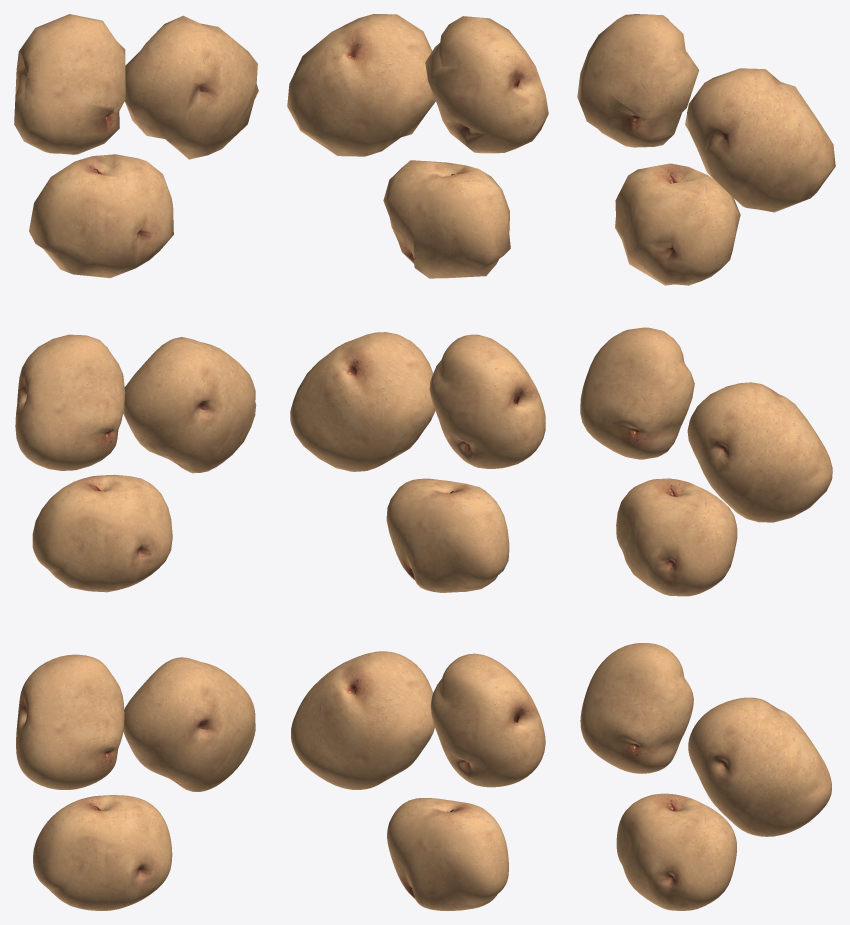
File: Potato.obj
3 renders of one model, left to right at view 1: azimuth 30°, elevation 25°; view 2: azimuth 150°, elevation 25°; view 3: azimuth 330°, elevation 25°, orthographic.
Visible parts, largest first — view 1: Potato_08, Potato_07, Potato_05, Potato_06, Potato_03, Potato_09, Potato_01, Potato_04, Potato_02; view 2: Potato_07, Potato_05, Potato_03, Potato_09, Potato_08, Potato_04, Potato_02, Potato_06, Potato_01; view 3: Potato_07, Potato_05, Potato_03, Potato_09, Potato_08, Potato_04, Potato_02, Potato_06, Potato_01.
Boxes of the visible parts, x1=… form: Potato_08: x1=29, y1=154, x2=173, y2=277; Potato_07: x1=124, y1=15, x2=258, y2=159; Potato_05: x1=123, y1=337, x2=256, y2=473; Potato_06: x1=32, y1=474, x2=172, y2=592; Potato_03: x1=123, y1=657, x2=255, y2=791; Potato_09: x1=14, y1=14, x2=125, y2=154; Potato_01: x1=33, y1=795, x2=172, y2=910; Potato_04: x1=15, y1=334, x2=125, y2=470; Potato_02: x1=16, y1=654, x2=124, y2=789; Potato_07: x1=287, y1=14, x2=435, y2=156; Potato_05: x1=290, y1=332, x2=435, y2=471; Potato_03: x1=291, y1=651, x2=434, y2=789; Potato_09: x1=425, y1=16, x2=548, y2=153; Potato_08: x1=383, y1=160, x2=510, y2=278; Potato_04: x1=429, y1=334, x2=545, y2=468; Potato_02: x1=430, y1=653, x2=545, y2=787; Potato_06: x1=386, y1=478, x2=509, y2=592; Potato_01: x1=387, y1=798, x2=508, y2=910; Potato_07: x1=685, y1=68, x2=835, y2=212; Potato_05: x1=687, y1=382, x2=832, y2=522; Potato_03: x1=688, y1=697, x2=831, y2=836; Potato_09: x1=577, y1=14, x2=699, y2=147; Potato_08: x1=615, y1=163, x2=740, y2=285; Potato_04: x1=580, y1=327, x2=694, y2=459; Potato_02: x1=580, y1=643, x2=693, y2=773; Potato_06: x1=616, y1=478, x2=737, y2=596; Potato_01: x1=616, y1=793, x2=736, y2=910.
Size of the model in its own units: 180 by 633 by 69.74.
